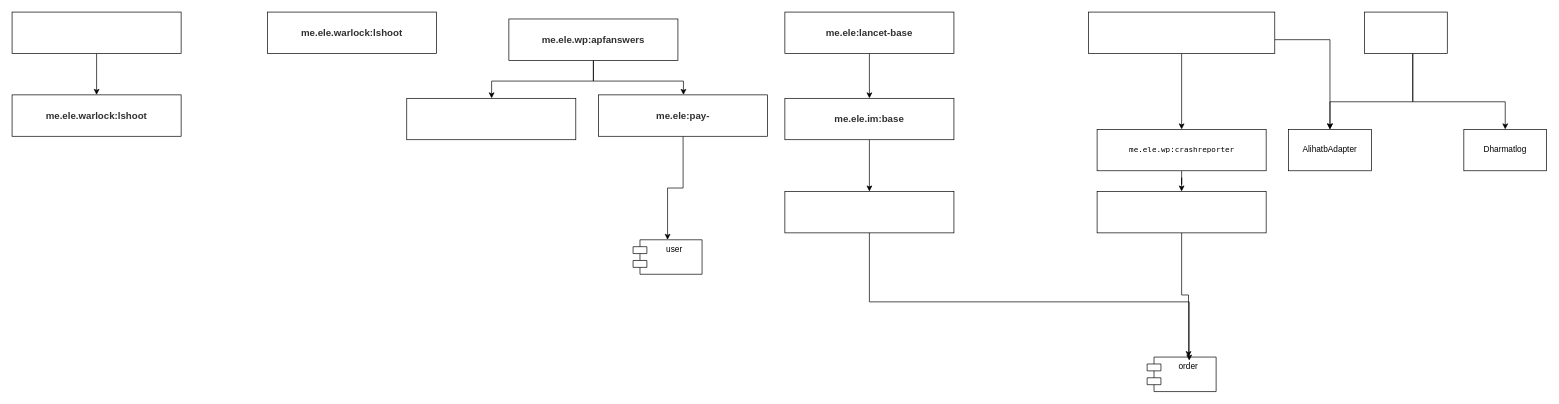
The diagram is 1559 pixels wide and 404 high, and some of its shapes have lost their labels. The centre of each missing label's shape, as x and y in pixels:
com.taobao.android:crashreporter: the point at 1181,32
com.taobao.android:taopai_sdk: the point at 96,32
me.ele.im:uikit: the point at 869,212
me.ele.napos.module:magex: the point at 491,119
me.ele:virtualbeacon: the point at 1181,212
taobao_tlog: the point at 1405,32
